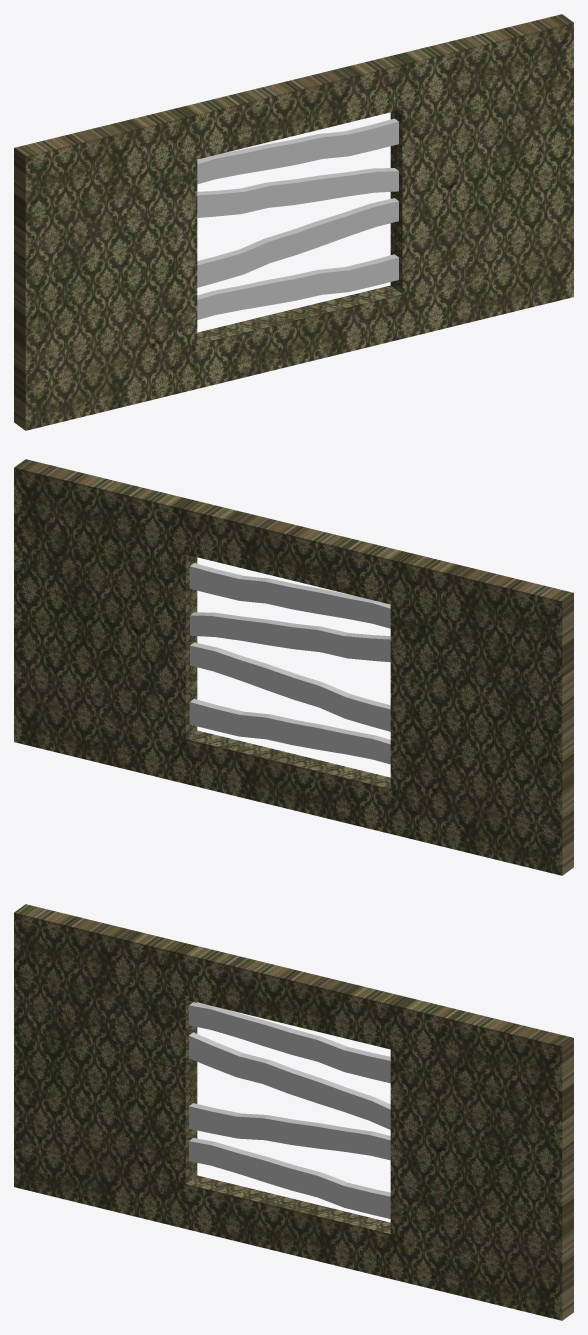
The model's file is mur_barricades.fbx.
3 views of the same model, one above another, from view 1: azimuth 30°, elevation 25°; view 2: azimuth 150°, elevation 25°; view 3: azimuth 330°, elevation 25° (orthographic).
Visible parts, largest first — view 1: Plane, barricade.009, barricade.008, barricade.011, barricade.010; view 2: Plane, barricade.009, barricade.008, barricade.011, barricade.010; view 3: Plane, barricade.010, barricade.008, barricade.011, barricade.009.
Part boxes in pixels (x1,y1,x2,y2): Plane: [14, 14, 573, 430]; barricade.009: [197, 198, 398, 287]; barricade.008: [197, 254, 398, 319]; barricade.011: [197, 118, 398, 184]; barricade.010: [197, 168, 398, 217]; Plane: [14, 459, 573, 875]; barricade.009: [190, 642, 390, 731]; barricade.008: [189, 699, 390, 764]; barricade.011: [189, 563, 390, 628]; barricade.010: [190, 612, 390, 662]; Plane: [14, 904, 573, 1320]; barricade.010: [189, 1032, 390, 1129]; barricade.008: [189, 1138, 390, 1218]; barricade.011: [189, 1002, 390, 1083]; barricade.009: [189, 1103, 390, 1160].
Bounding box in the file's own units: 2300 × 1100 × 85.
